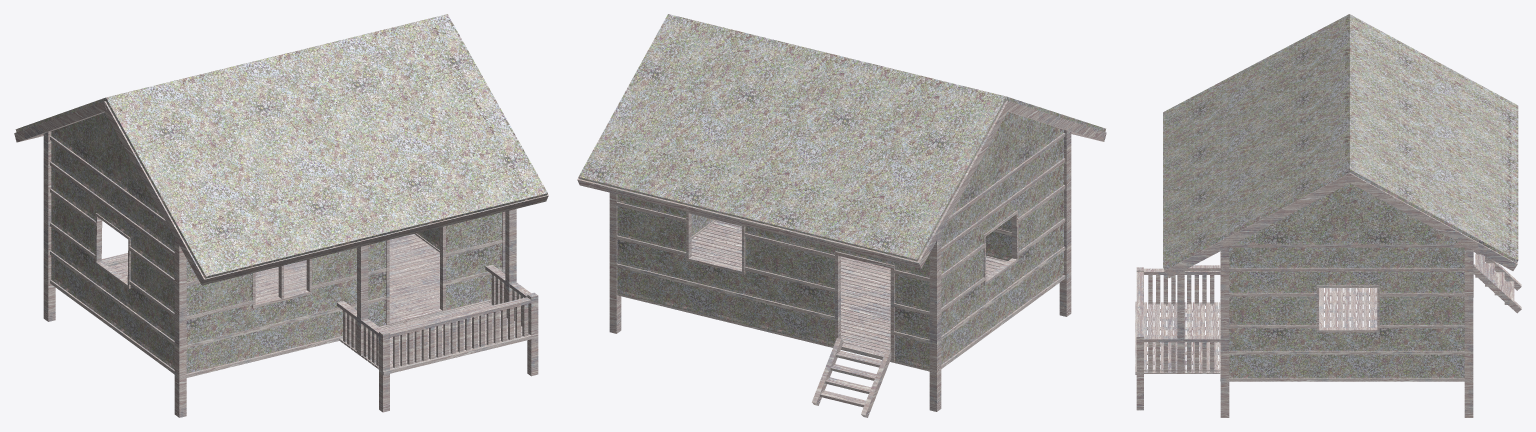
The picture shows the model from 3 angles, left to right: view 1: azimuth 30°, elevation 25°; view 2: azimuth 150°, elevation 25°; view 3: azimuth 270°, elevation 25°; orthographic projection. The views are drawn at different scales.
Parts seen in each view (by area): view 1: 1; view 2: 1; view 3: 1.
Boxes of the visible parts, <box> form: 1: <box>14,14,548,417</box>; 1: <box>577,14,1106,417</box>; 1: <box>1135,14,1521,417</box>.
Size of the model in its own units: 28.78 by 21.59 by 30.01.
2 materials, 2 textured.
